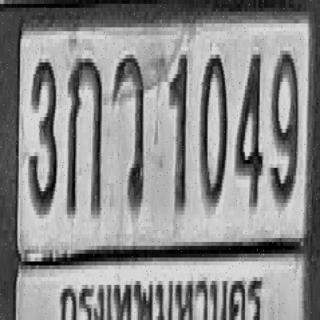A01: (66, 55, 102, 215)
A37: (112, 53, 144, 209)
N00: (200, 51, 227, 207)
N01: (168, 53, 188, 209)
N03: (29, 57, 57, 213)
N04: (235, 51, 262, 207)
N09: (271, 51, 298, 203)
